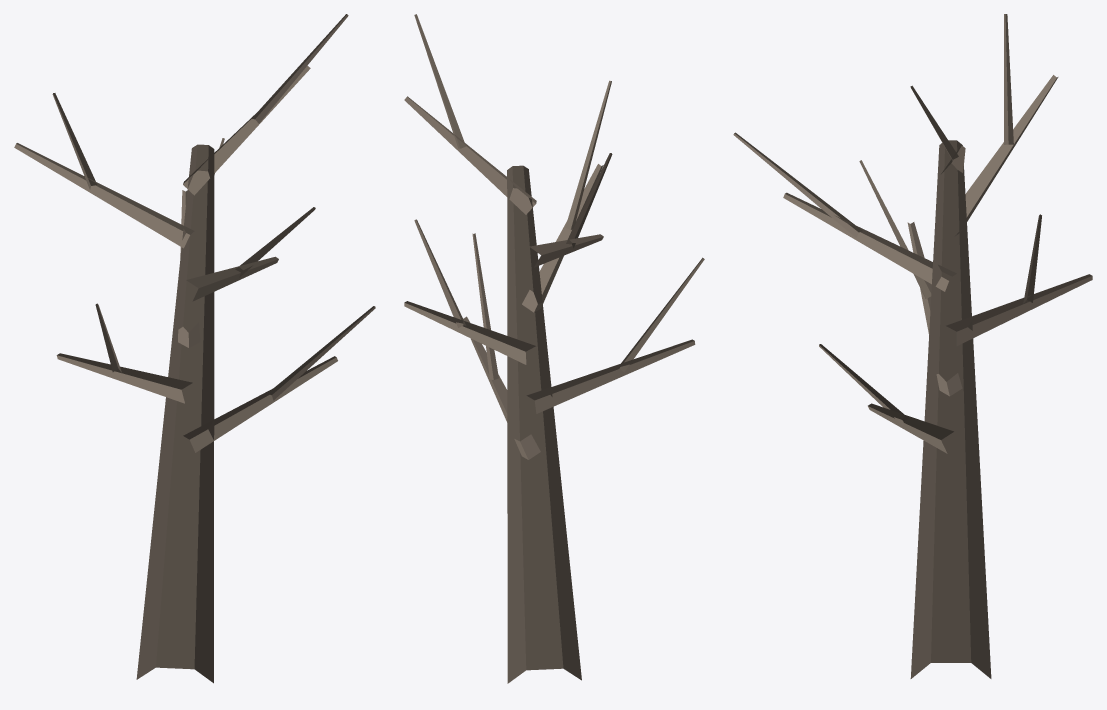
Rendered from arbol_seco.glb.
3 renders of one model, left to right at view 1: azimuth 30°, elevation 25°; view 2: azimuth 150°, elevation 25°; view 3: azimuth 270°, elevation 25°, orthographic. The views are drawn at different scales.
Visible parts, largest first — view 1: arbol_seco2; view 2: arbol_seco2; view 3: arbol_seco2.
Part boxes in pixels (box(x1,y1,x2,y2)): arbol_seco2: box(14, 14, 375, 683); arbol_seco2: box(404, 14, 704, 683); arbol_seco2: box(733, 14, 1092, 678).
Size of the model in its own units: 2.09 by 4.42 by 2.14.
